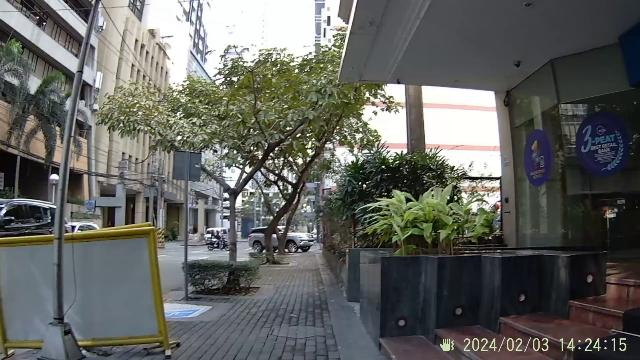potted_plant: (358, 209, 496, 336)
street_sign: (164, 146, 208, 187)
tree: (253, 150, 310, 260), (214, 156, 262, 268)
